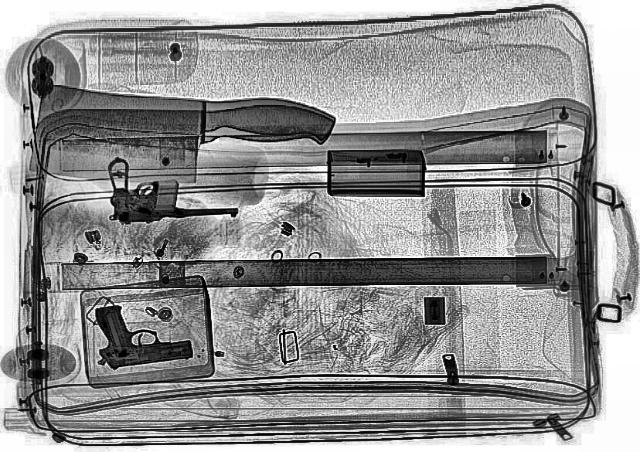Gun: (103, 155, 239, 221), (80, 292, 192, 370)
Knife: (26, 80, 352, 196), (25, 71, 342, 177)
